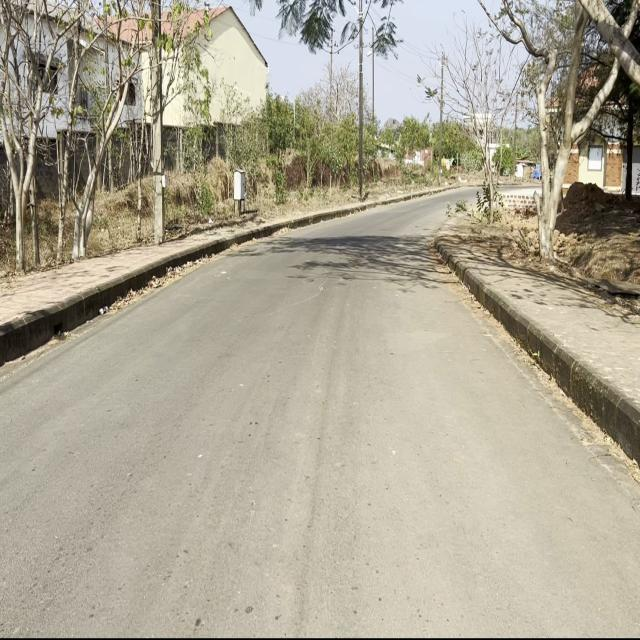Road: (4, 216, 636, 633)
